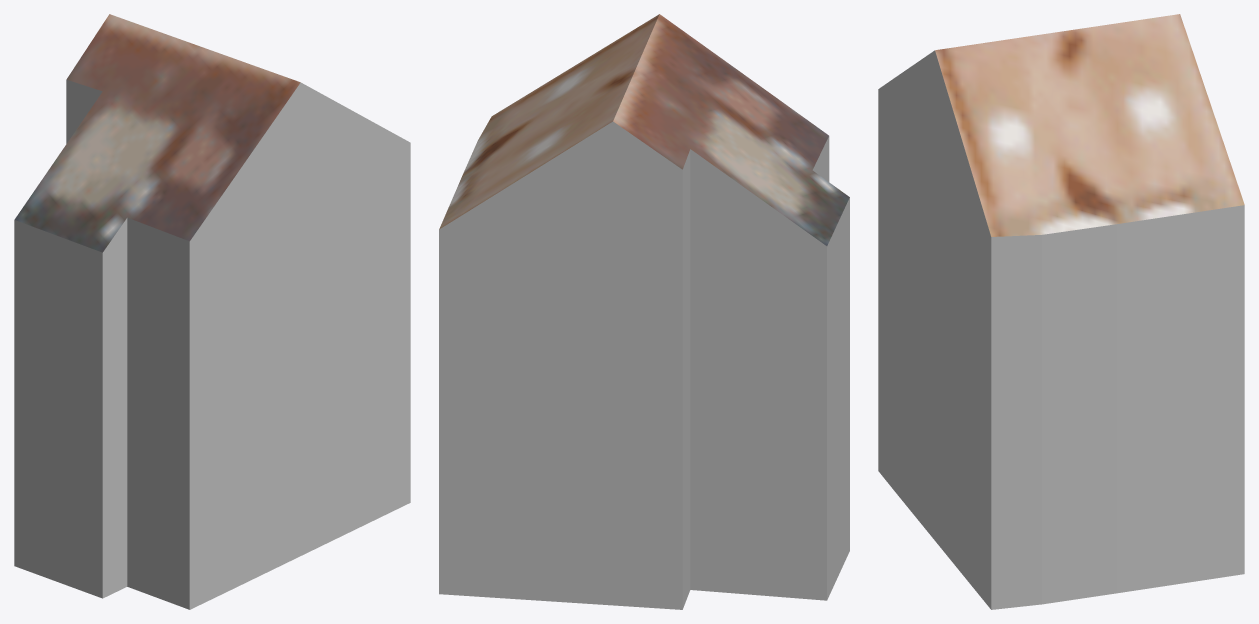
File: DEBW_0010007Tx6r.gltf
The picture shows the model from 3 angles, left to right: view 1: azimuth 30°, elevation 25°; view 2: azimuth 150°, elevation 25°; view 3: azimuth 270°, elevation 25°; orthographic projection. The views are drawn at different scales.
Visible parts, largest first — view 1: Z_UP; view 2: Z_UP; view 3: Z_UP.
Boxes of the visible parts, x1,y1,x2,y2 form: Z_UP: (14, 14, 410, 609); Z_UP: (439, 14, 849, 609); Z_UP: (878, 14, 1244, 609).
Size of the model in its own units: 14.58 by 18.23 by 12.35.
Materials: 2 (1 with a texture image).
